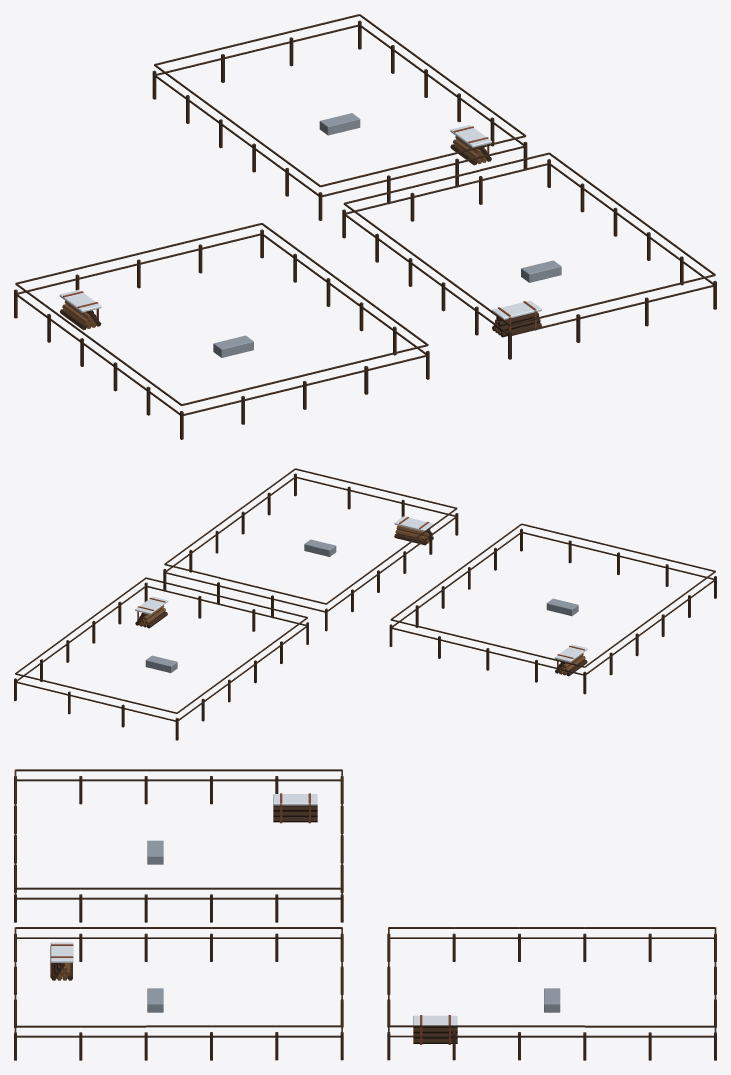
The model's file is Hut_Pen_0_-2.fbx.
The picture shows the model from 3 angles, top to bottom: view 1: azimuth 30°, elevation 25°; view 2: azimuth 150°, elevation 25°; view 3: azimuth 270°, elevation 25°; orthographic projection. The views are drawn at different scales.
Visible parts, largest first — view 1: Hut_Pen_0_-2; view 2: Hut_Pen_0_-2; view 3: Hut_Pen_0_-2.
Boxes of the visible parts, left/top/right/bottom form: Hut_Pen_0_-2: left=14, top=14, right=716, bottom=439; Hut_Pen_0_-2: left=14, top=468, right=716, bottom=740; Hut_Pen_0_-2: left=14, top=769, right=716, bottom=1060.
Bounding box in the file's own units: 2613 × 164 × 3013.
